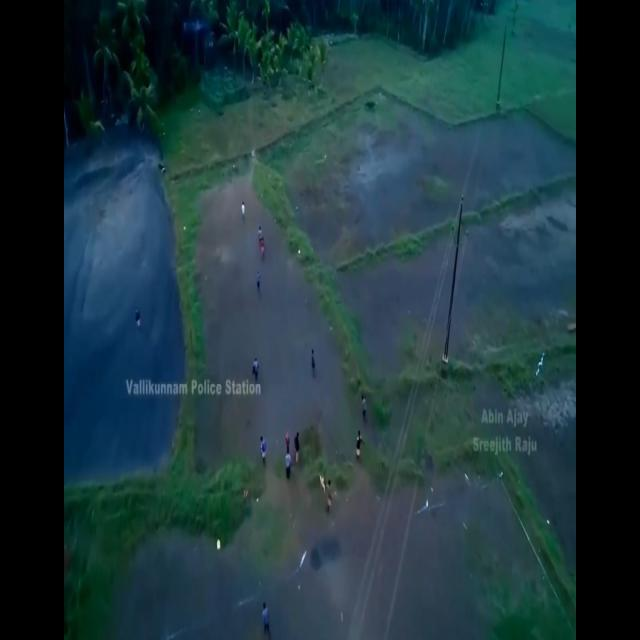humans: (282, 432, 295, 488), (260, 594, 275, 640), (258, 427, 270, 471), (322, 474, 334, 517), (294, 424, 303, 474), (360, 382, 370, 426), (356, 426, 365, 468), (252, 348, 262, 382), (310, 337, 318, 377), (255, 270, 264, 302), (240, 194, 247, 224), (257, 218, 265, 243), (258, 236, 266, 260)
